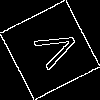V: (25, 24, 81, 75)
